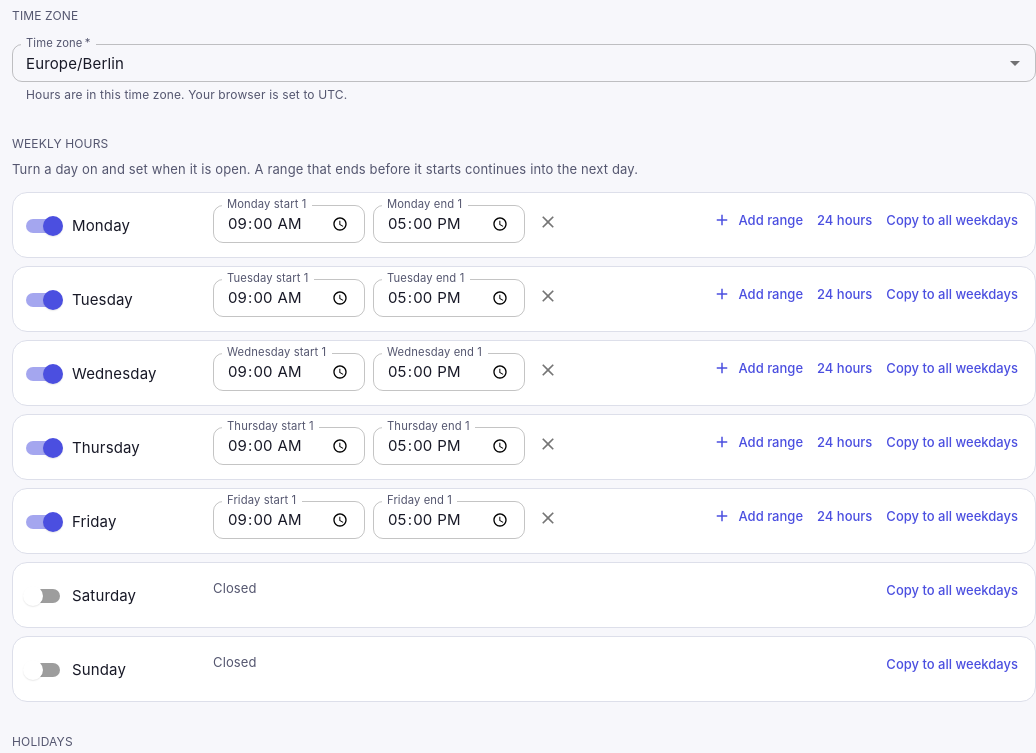
BusinessHoursEditor › edits times and shows a hint when a range crosses midnight
The image size is (1036, 753).
Replace the text in the time field labelled "Monday start 1" with "22:00" at (289, 224), box [213,205,365,244]
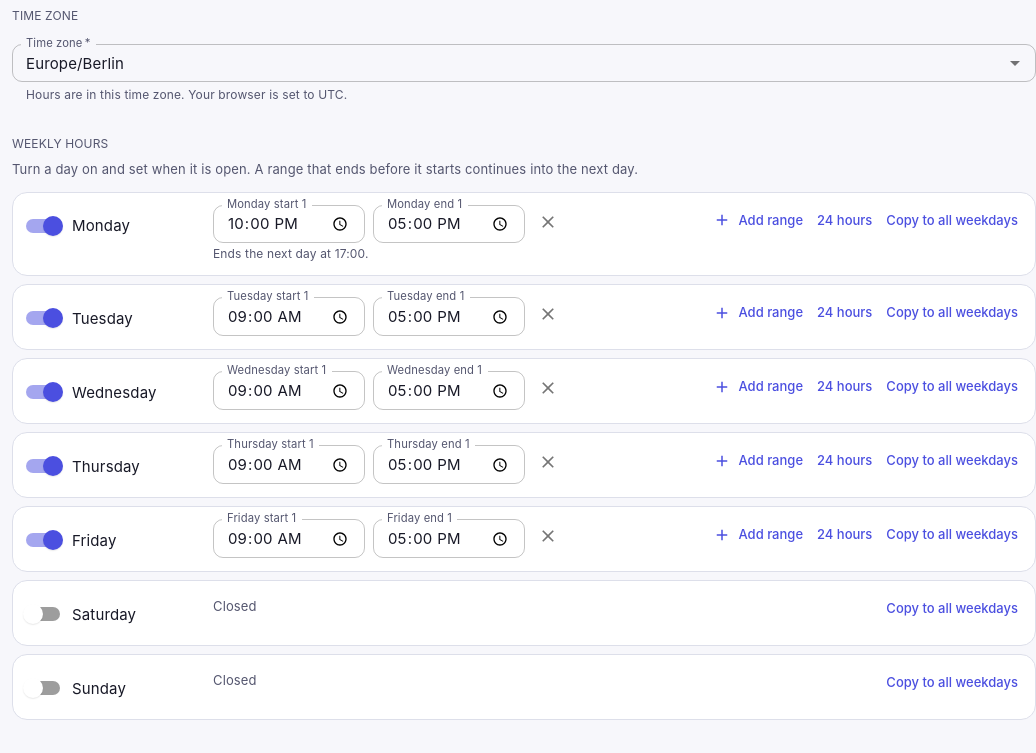
Replace the text in the time field labelled "Monday end 1" with "02:00" at (449, 224), box [373,205,525,244]
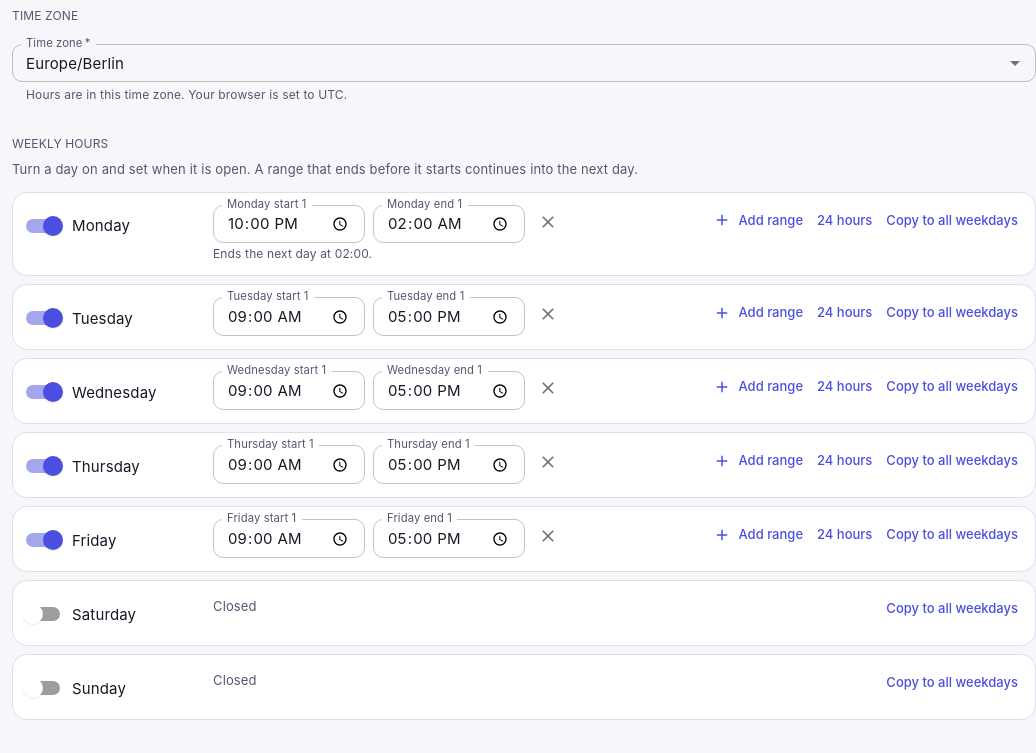
Check: the text "Ends the next day at 02:00." is shown, box [213,246,372,261]
